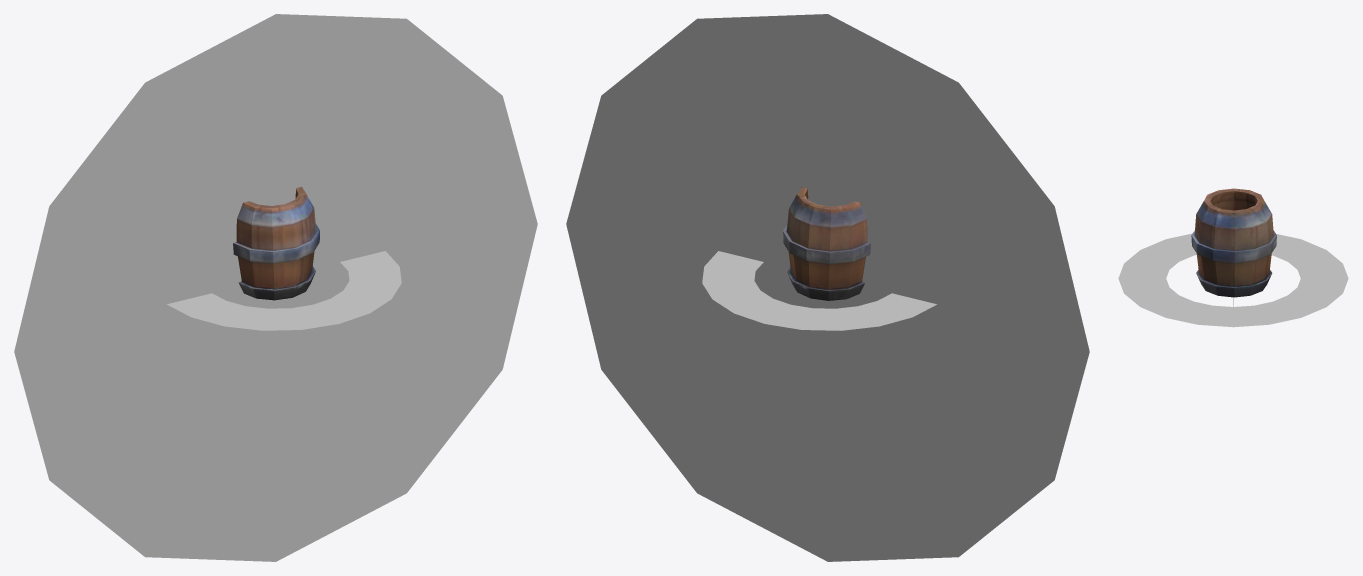
File: pref_fx_returnhome_born_081301_lv1.fbx
The picture shows the model from 3 angles, left to right: view 1: azimuth 30°, elevation 25°; view 2: azimuth 150°, elevation 25°; view 3: azimuth 270°, elevation 25°; orthographic projection. The views are drawn at different scales.
Visible parts, largest first — view 1: Cone001, sce_map_02Barrel01, huan; view 2: Cone001, sce_map_02Barrel01, huan; view 3: huan, sce_map_02Barrel01.
Part boxes in pixels (box(x1,y1,x2,y2)): Cone001: box(14, 14, 537, 561); sce_map_02Barrel01: box(233, 186, 319, 300); huan: box(167, 251, 401, 330); Cone001: box(566, 14, 1089, 561); sce_map_02Barrel01: box(783, 187, 870, 300); huan: box(702, 251, 936, 330); huan: box(1118, 233, 1348, 327); sce_map_02Barrel01: box(1191, 188, 1276, 297).
Bounding box in the file's own units: 8.73 × 8.73 × 3.65.
